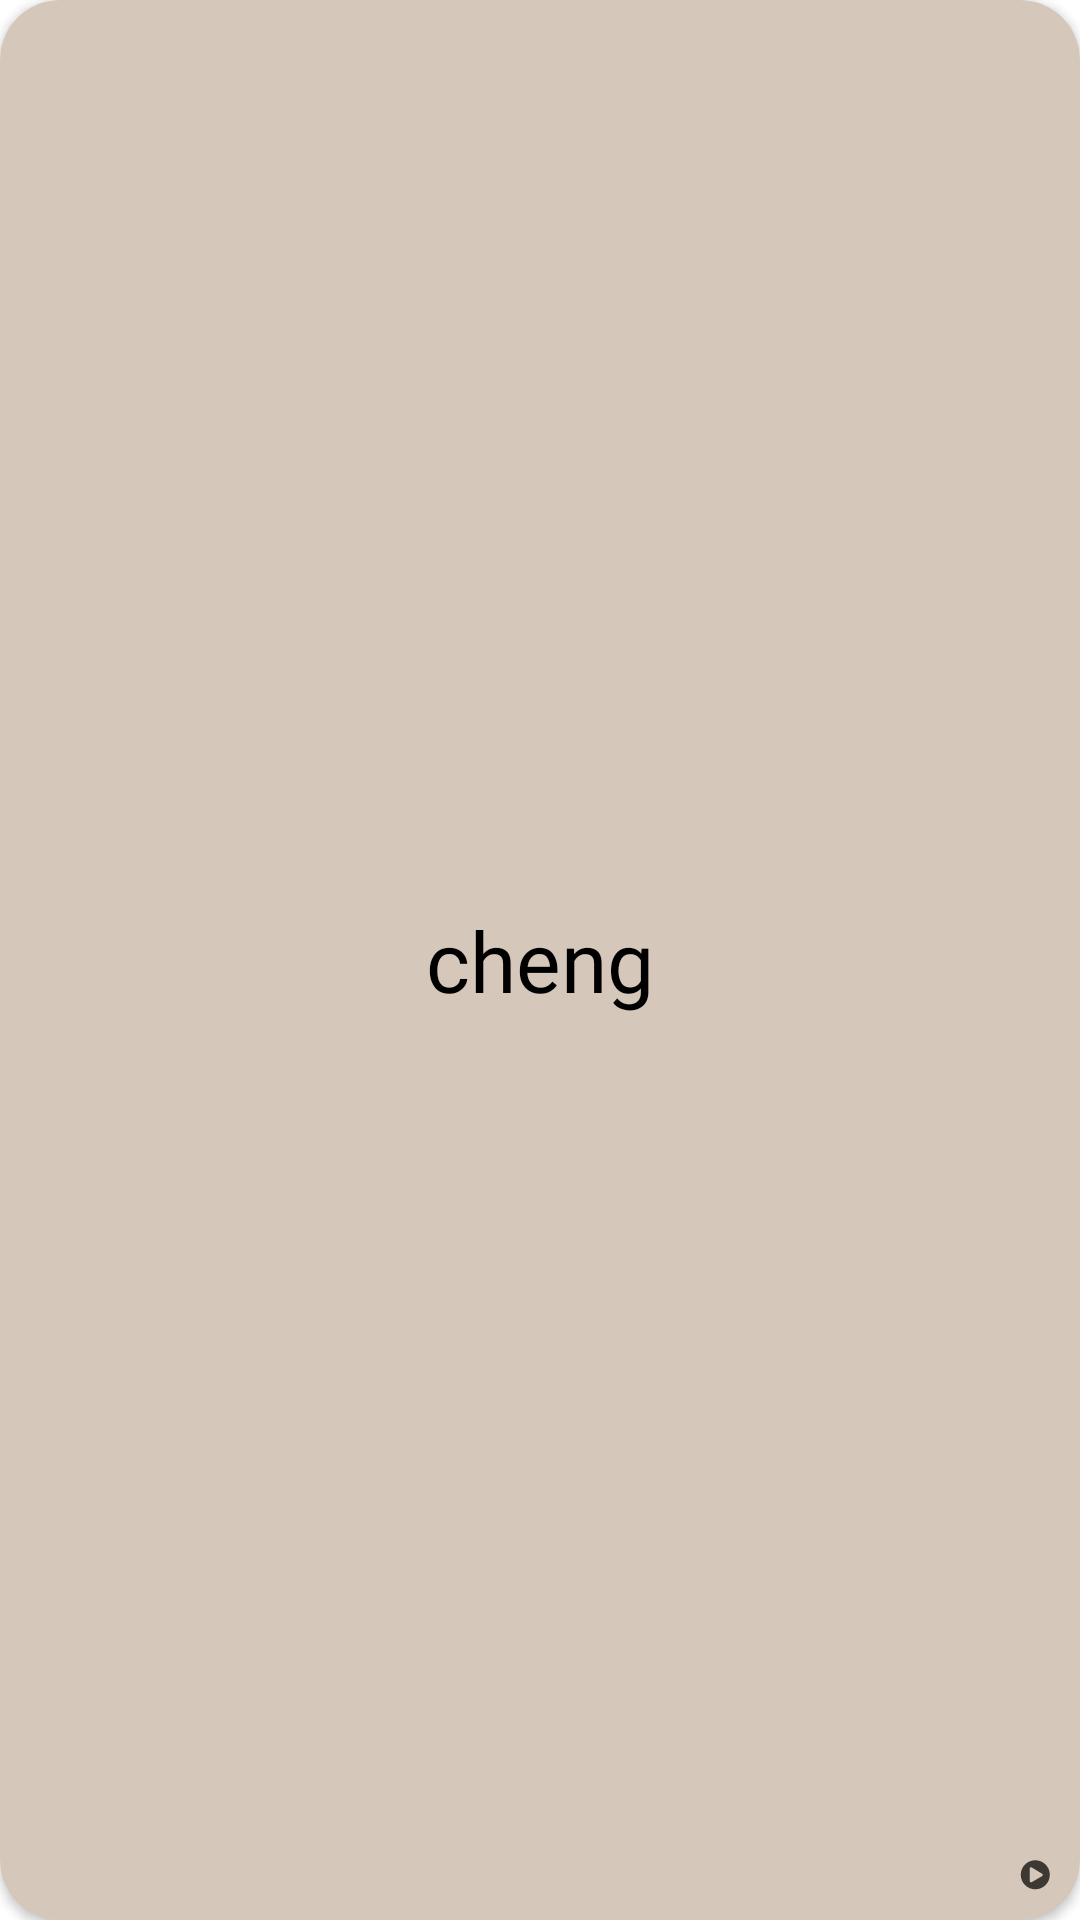

Icons on this 1080px×1920px Android screen, each with its box as rect(x1, y1, x2, y2):
play: rect(1020, 1860, 1050, 1890)
